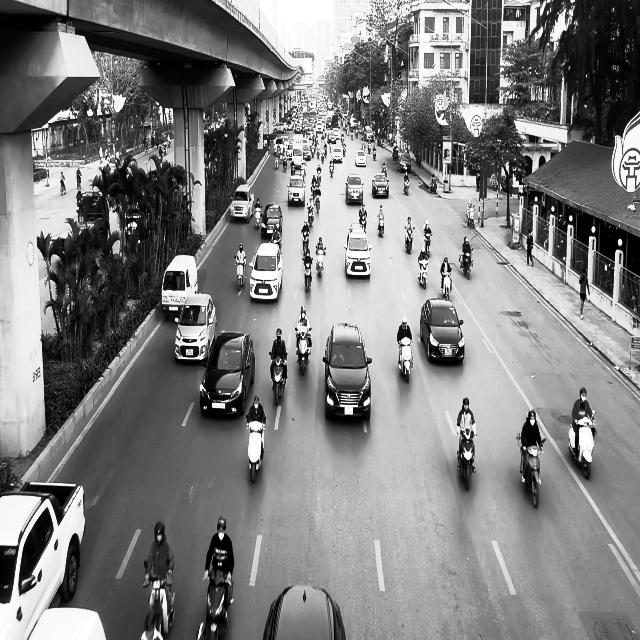car: (323, 322, 372, 421), (200, 331, 255, 417), (262, 584, 346, 640), (175, 292, 218, 366), (420, 297, 465, 363), (250, 241, 284, 302), (344, 223, 373, 278), (230, 183, 254, 222), (261, 203, 283, 239), (345, 173, 364, 204), (288, 176, 306, 206), (372, 172, 389, 198), (398, 153, 412, 172), (355, 150, 367, 167)
motorbike: (197, 568, 234, 640), (142, 561, 176, 634), (516, 432, 546, 508), (568, 410, 597, 480), (246, 415, 266, 483), (457, 428, 477, 491), (269, 352, 288, 406), (295, 328, 312, 375), (398, 338, 413, 383), (234, 256, 247, 292), (459, 248, 474, 279), (418, 254, 429, 288), (303, 256, 313, 292), (441, 270, 452, 300), (316, 246, 326, 277), (405, 226, 414, 254), (423, 233, 432, 257), (377, 215, 385, 237), (255, 206, 262, 229), (404, 174, 410, 195), (60, 179, 66, 195)
